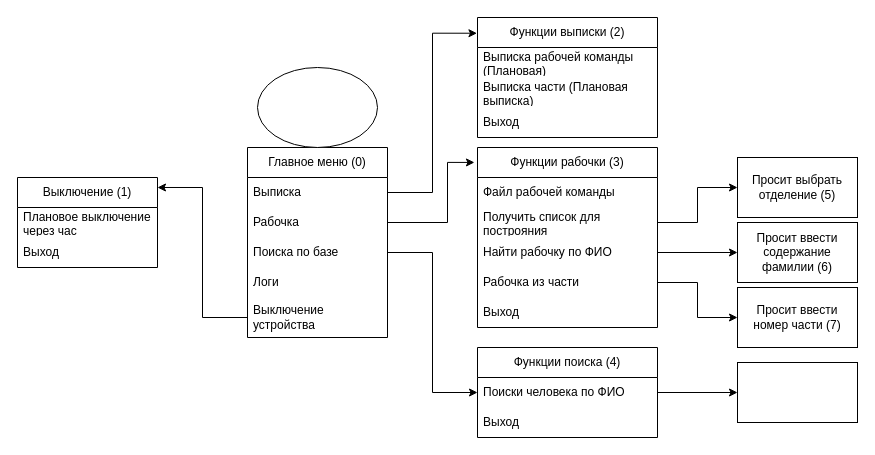
Some shapes in this 875 by 455 pixel diagram are drawn without their labels. Each missing label, with the centre of its shape:
Доступ к использованию ограничен: [317,107]
Если записей по ФИО больше 5. Формировать файл: [797,392]
